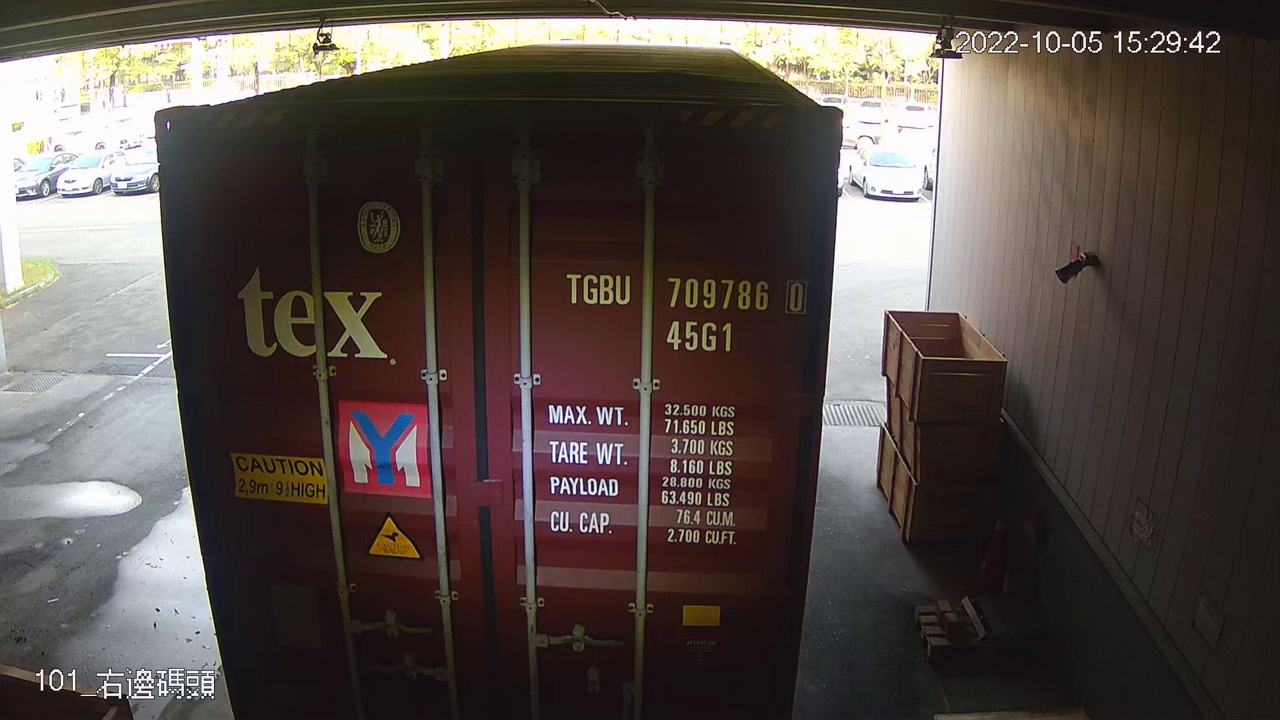container: (559, 267, 811, 355)
